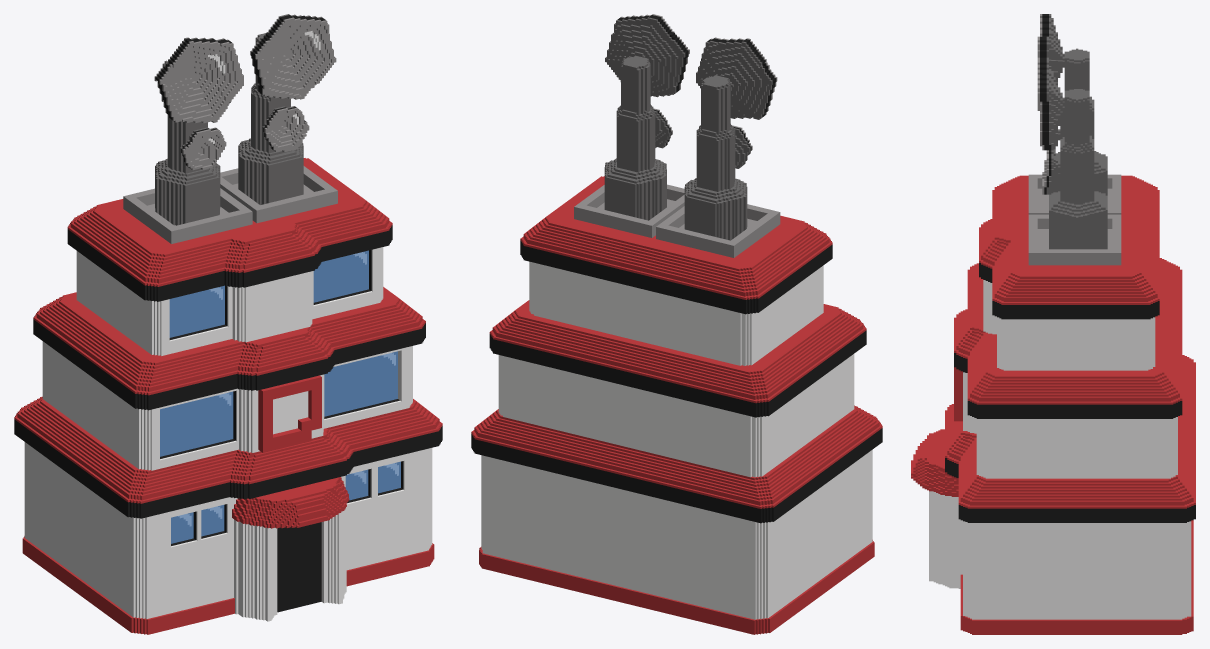
The model's file is KolbenTower.fbx.
3 views of the same model, side by side, from view 1: azimuth 30°, elevation 25°; view 2: azimuth 150°, elevation 25°; view 3: azimuth 270°, elevation 25° (orthographic). The views are drawn at different scales.
Visible parts, largest first — view 1: KolbenTower; view 2: KolbenTower; view 3: KolbenTower.
Part boxes in pixels (<box>): KolbenTower: <box>14,14,442,634</box>; KolbenTower: <box>471,14,882,634</box>; KolbenTower: <box>911,14,1195,634</box>.
Bounding box in the file's own units: 1550 × 2550 × 1260.
Materials: 1 (1 with a texture image).
